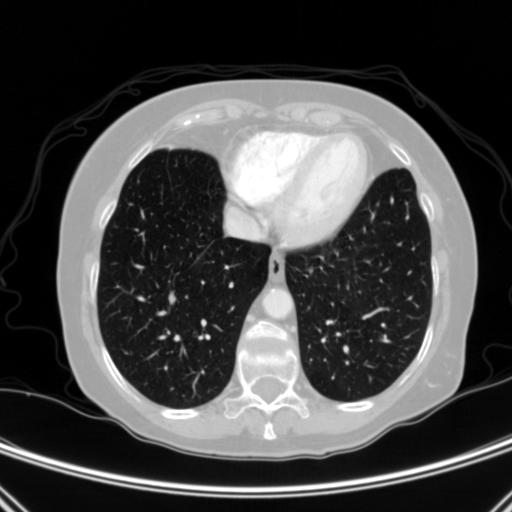nodule: (166, 292, 179, 305)
